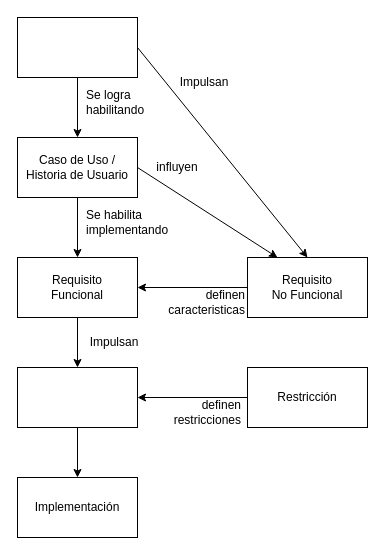
This 385x555 diagram has some shape labels left out. The shapes that lost their labels are listed below. From the top down, each one's centre as x and y in pixels, then its label:
pixel 77 47: Objetivo
pixel 77 397: Diseño
